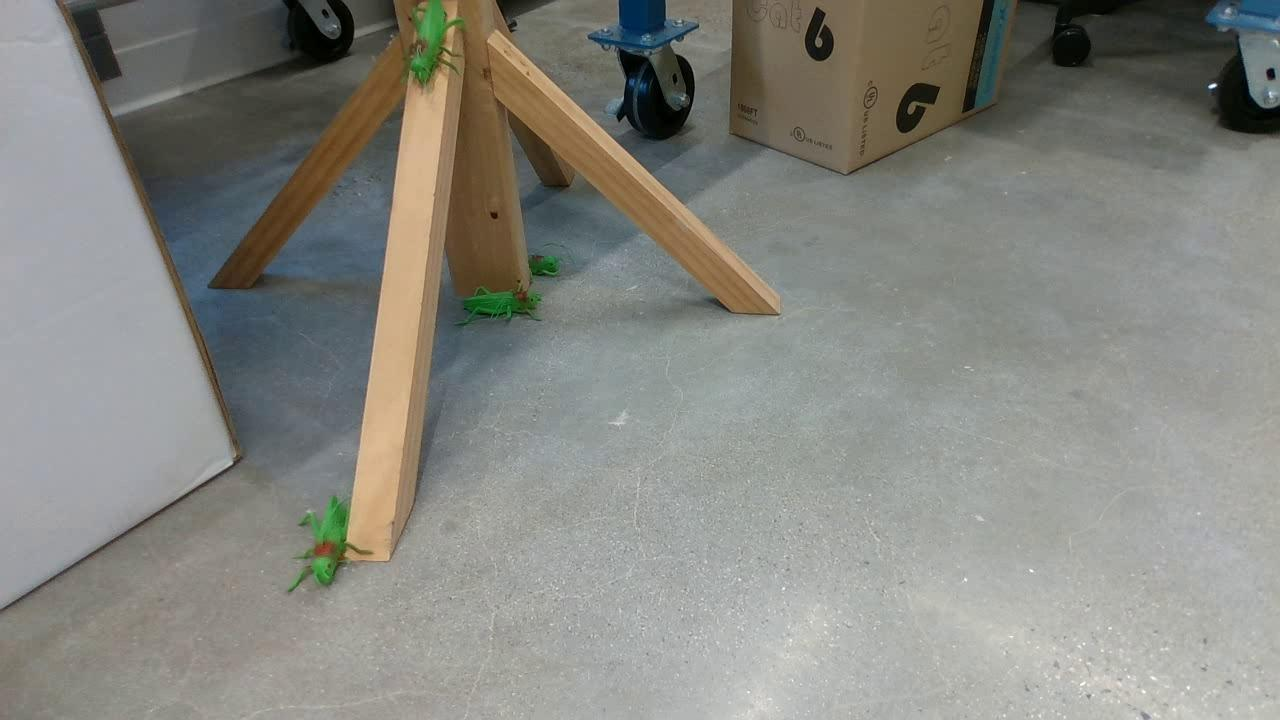grasshopper: (285, 493, 368, 580), (392, 1, 457, 95), (453, 277, 544, 321), (524, 241, 557, 282)
